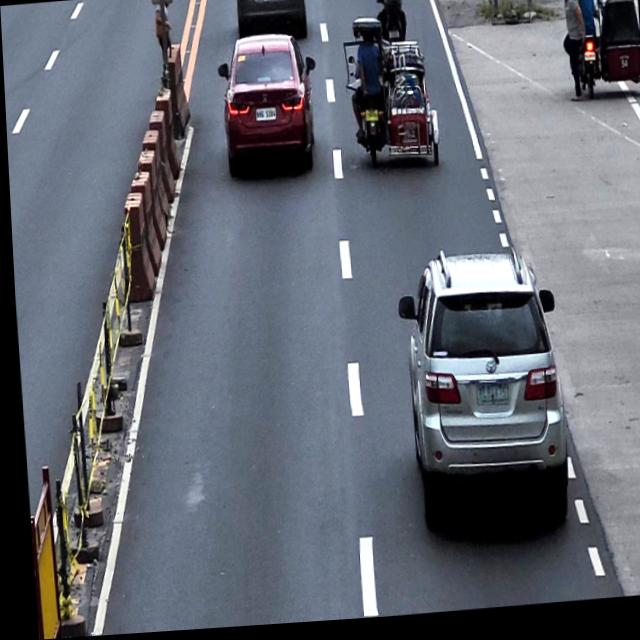Car: (390, 246, 569, 548), (213, 31, 321, 183), (234, 0, 310, 50)
License-Plate: (470, 385, 507, 411), (253, 109, 275, 126), (363, 111, 378, 126), (387, 32, 399, 45), (581, 59, 596, 69), (261, 0, 280, 7)
Motorcycle: (372, 0, 410, 53)
Tricycle: (342, 16, 440, 180), (564, 0, 640, 108)
